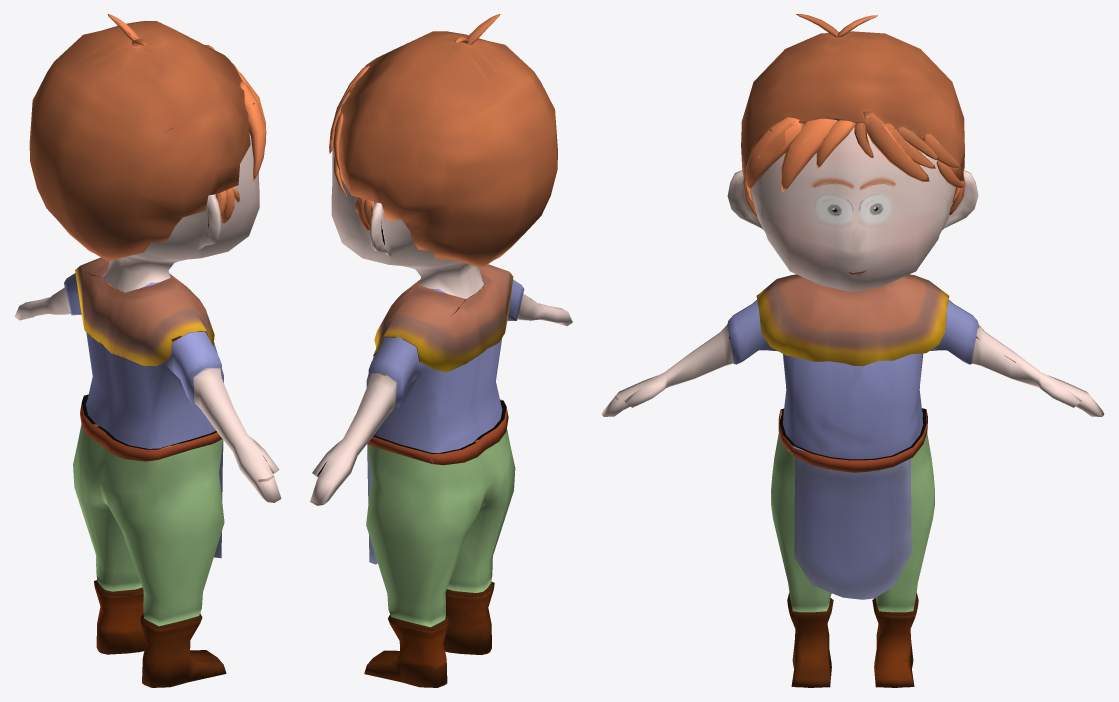
File: char.fbx
3 views of the same model, side by side, from view 1: azimuth 30°, elevation 25°; view 2: azimuth 150°, elevation 25°; view 3: azimuth 270°, elevation 25° (orthographic).
Parts seen in each view (by area): view 1: Character.001; view 2: Character.001; view 3: Character.001.
Part boxes in pixels (bbox=[...]): Character.001: bbox=[14, 14, 281, 687]; Character.001: bbox=[310, 14, 572, 687]; Character.001: bbox=[601, 14, 1104, 687].
Size of the model in its own units: 138 by 415 by 297.
1 material, 1 textured.
